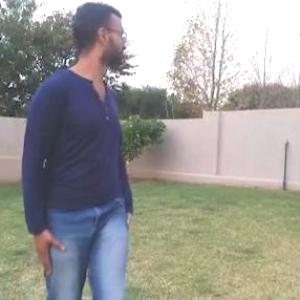follow: (16, 0, 134, 299)
